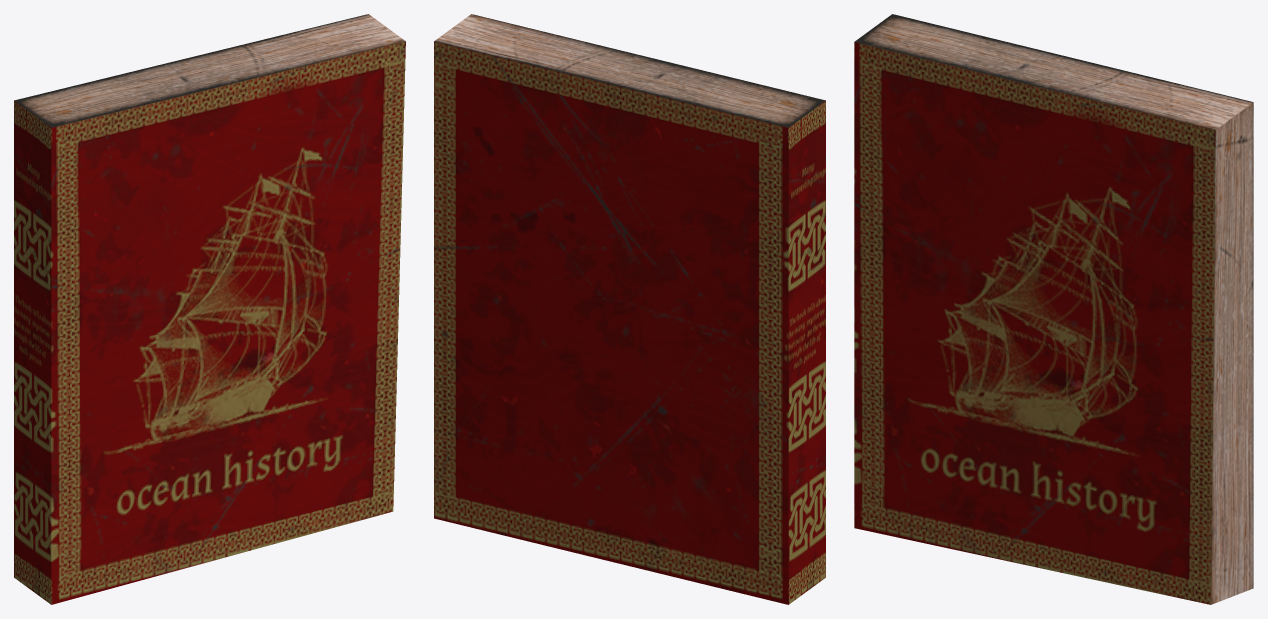
The model's file is SM_Book_shelf_06.fbx.
3 views of the same model, side by side, from view 1: azimuth 30°, elevation 25°; view 2: azimuth 150°, elevation 25°; view 3: azimuth 330°, elevation 25° (orthographic).
Visible parts, largest first — view 1: SM_Book_shelf_06; view 2: SM_Book_shelf_06; view 3: SM_Book_shelf_06.
Boxes of the visible parts, bbox=[...] form: SM_Book_shelf_06: bbox=[14, 14, 405, 604]; SM_Book_shelf_06: bbox=[434, 14, 825, 604]; SM_Book_shelf_06: bbox=[854, 14, 1253, 604].
Size of the model in its own units: 27.01 by 4.94 by 34.73.
1 material, 1 textured.
